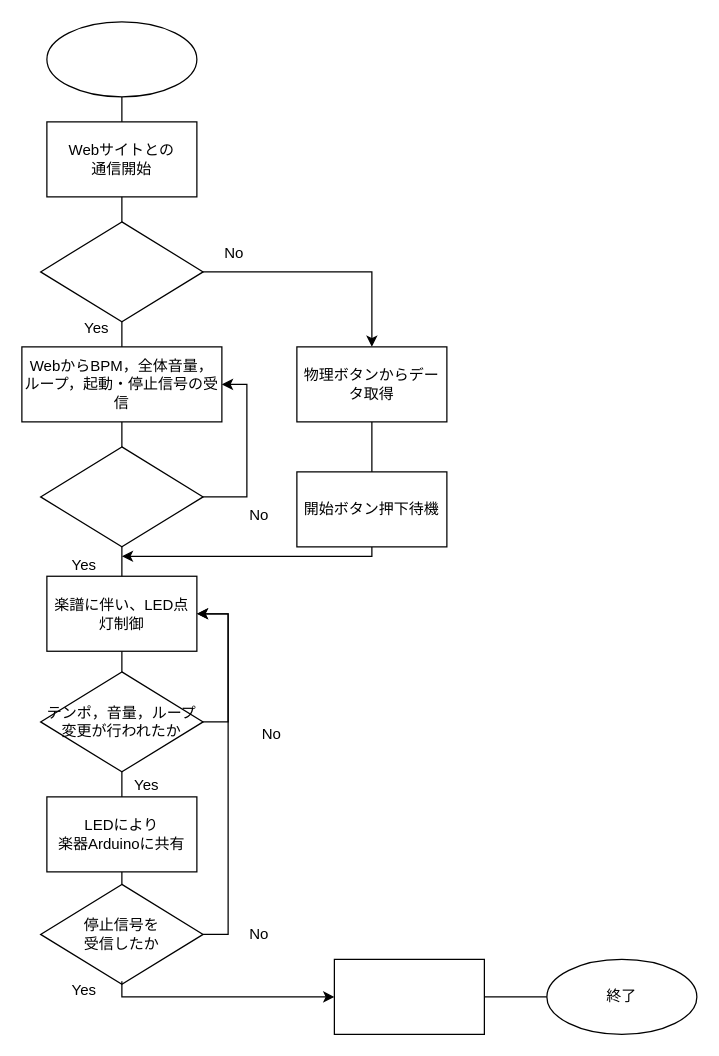
The diagram is 719 pixels wide and 1056 high, and some of its shapes have lost their labels. The shapes that lost their labels are listed below. From the top down, each one's centre as x and y in pixels, then its label:
pixel 121 59: 開始
pixel 121 271: 通信ができたか
pixel 121 496: 開始ボタン押下
pixel 408 996: 演奏停止 LED消灯
